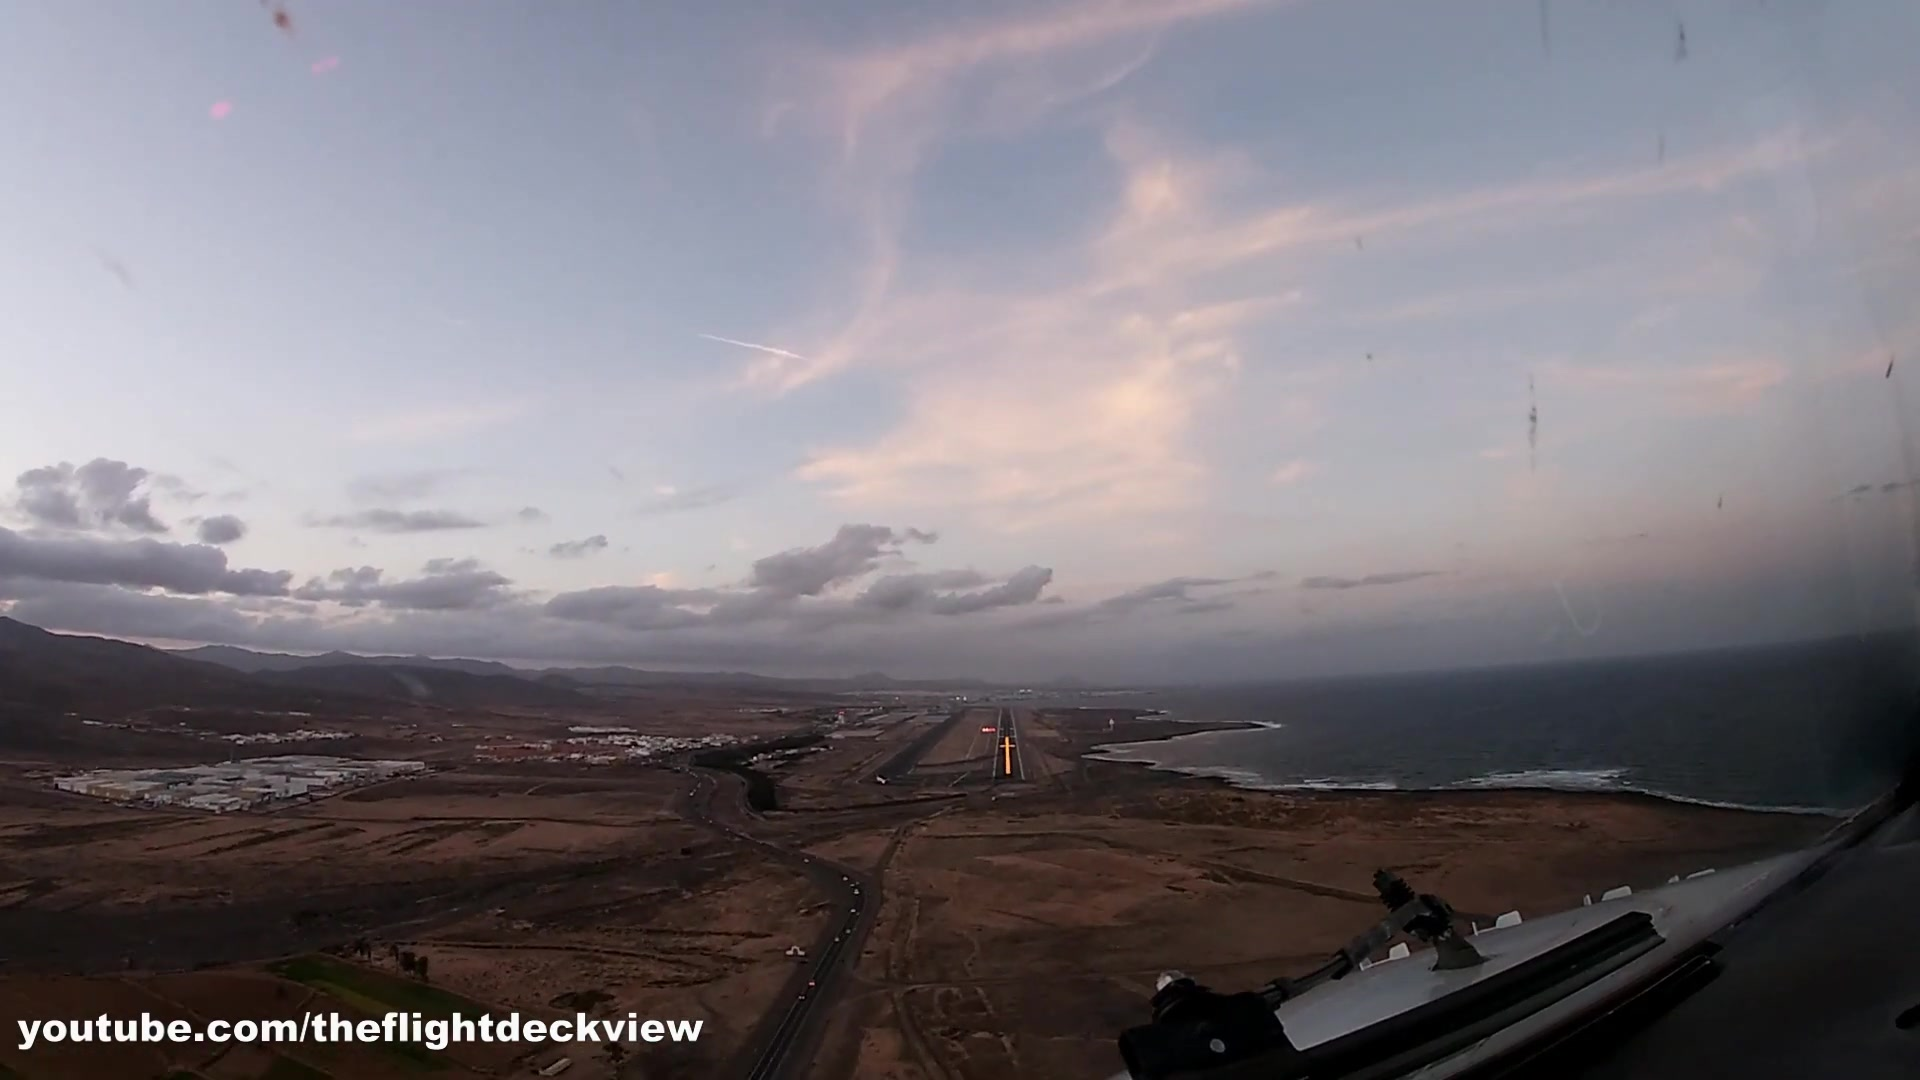runway: (988, 708, 1023, 775)
